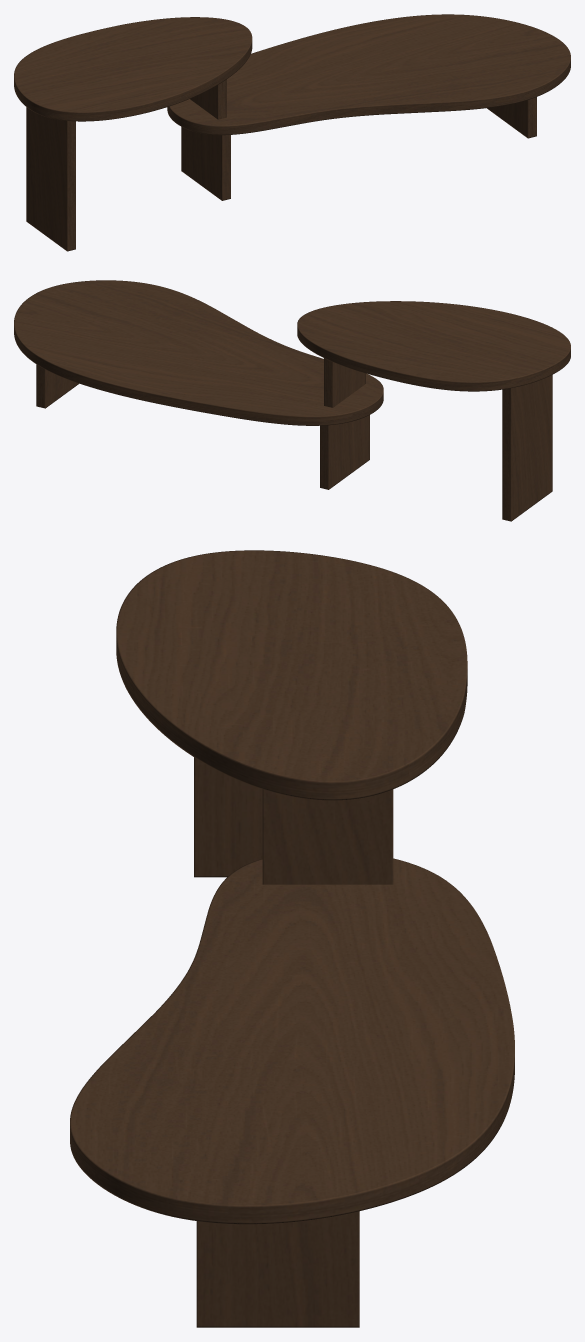
3 renders of one model, top to bottom at view 1: azimuth 30°, elevation 25°; view 2: azimuth 150°, elevation 25°; view 3: azimuth 270°, elevation 25°, orthographic. The views are drawn at different scales.
Parts seen in each view (by area): view 1: 밤나무; view 2: 밤나무; view 3: 밤나무.
Part boxes in pixels (x1=…): 밤나무: x1=14, y1=14, x2=570, y2=251; 밤나무: x1=14, y1=280, x2=570, y2=521; 밤나무: x1=70, y1=550, x2=514, y2=1327.
Bounding box in the file's own units: 0.715 × 0.19 × 0.26.
1 material, 1 textured.
